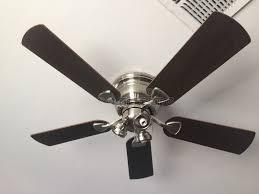fan: (22, 13, 255, 180)
